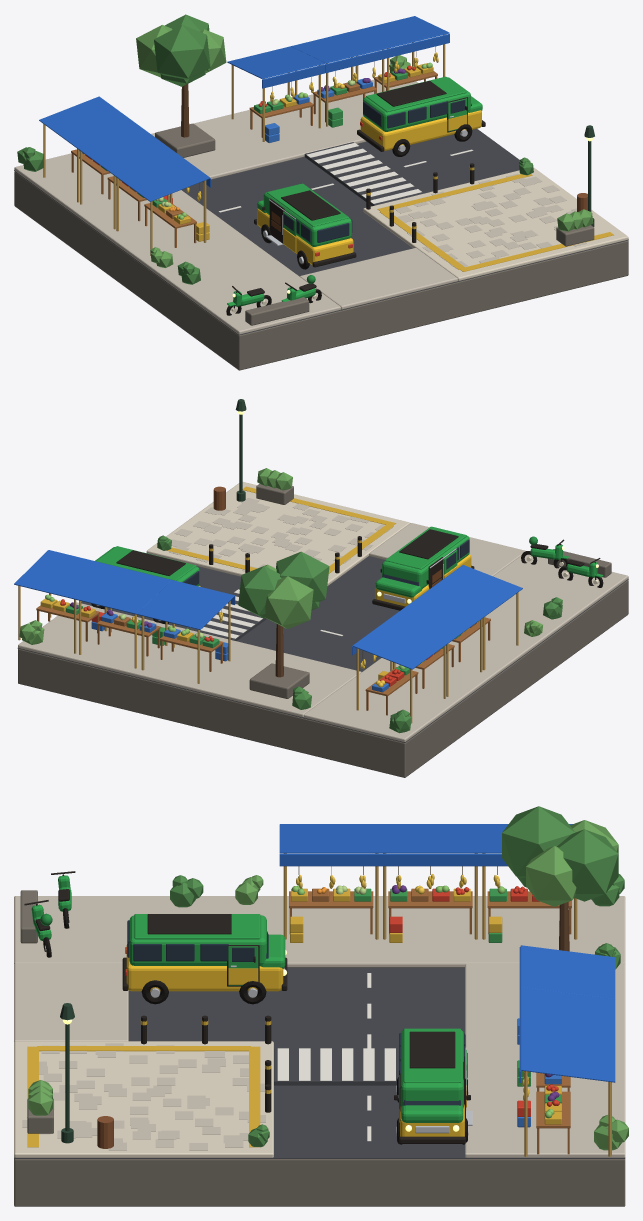
Rendered from lokasi2.glb.
3 renders of one model, top to bottom at view 1: azimuth 30°, elevation 25°; view 2: azimuth 150°, elevation 25°; view 3: azimuth 270°, elevation 25°, orthographic. The views are drawn at different scales.
Visible parts, largest first — view 1: lokasi2_static; view 2: lokasi2_static; view 3: lokasi2_static.
Part boxes in pixels (left/top/right/bottom): lokasi2_static: left=14, top=14, right=628, bottom=370; lokasi2_static: left=14, top=399, right=628, bottom=777; lokasi2_static: left=14, top=806, right=628, bottom=1206.
Size of the model in its own units: 16.31 by 6.73 by 16.09.
